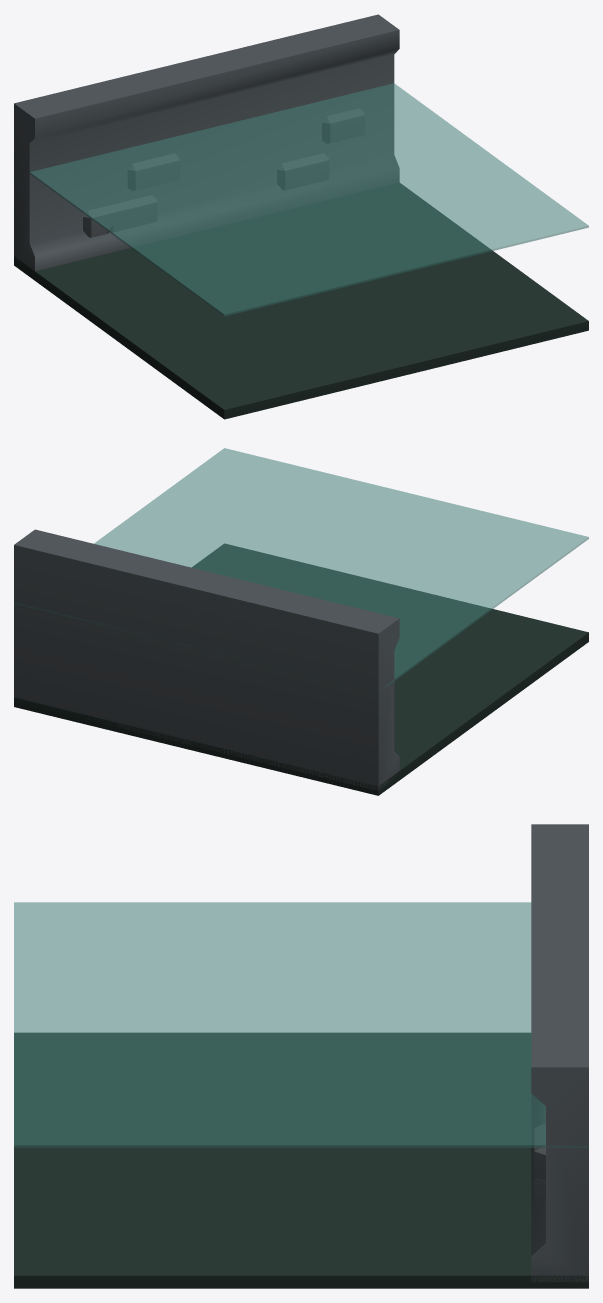
File: floor_pool_edge_B.glb
3 views of the same model, one above another, from view 1: azimuth 30°, elevation 25°; view 2: azimuth 150°, elevation 25°; view 3: azimuth 270°, elevation 25° (orthographic). The views are drawn at different scales.
Visible parts, largest first — view 1: Item; view 2: Item; view 3: Item.
Part boxes in pixels (bbox=[...]): Item: bbox=[14, 14, 588, 419]; Item: bbox=[14, 448, 588, 795]; Item: bbox=[14, 824, 588, 1288].
Bounding box in the file's own units: 4 × 1.7 × 4.
Materials: 3 (3 with a texture image).
